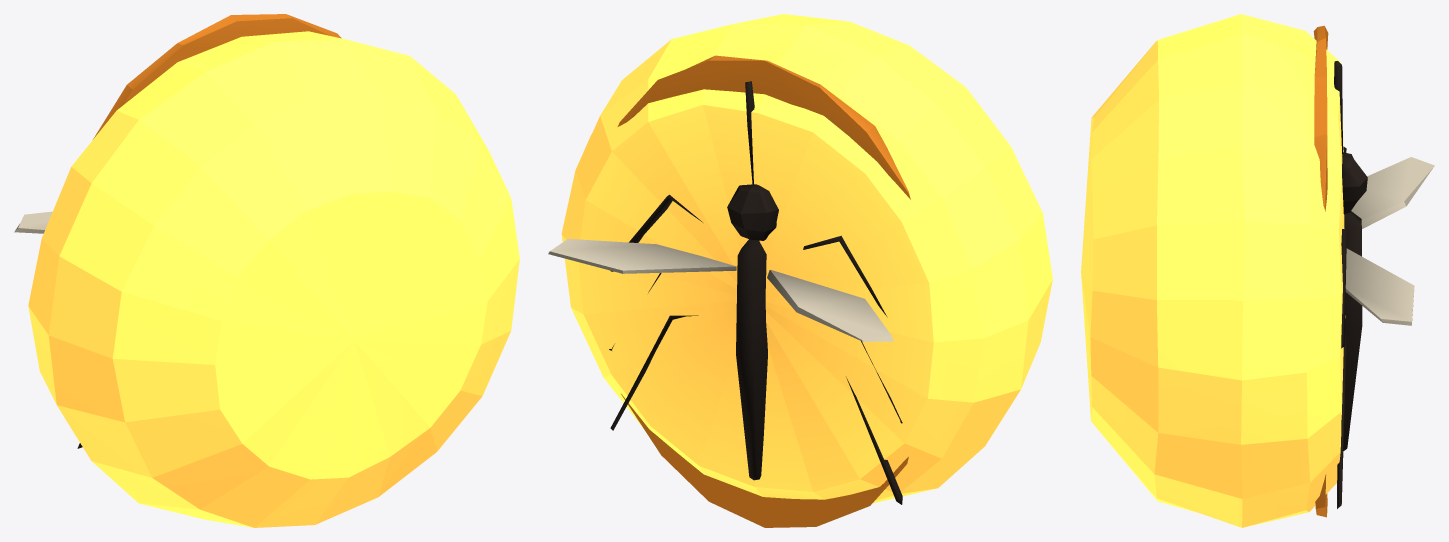
The model's file is find_mosquito.glb.
The picture shows the model from 3 angles, left to right: view 1: azimuth 30°, elevation 25°; view 2: azimuth 150°, elevation 25°; view 3: azimuth 270°, elevation 25°; orthographic projection.
Visible parts, largest first — view 1: Mosquito; view 2: Mosquito; view 3: Mosquito.
Part boxes in pixels (x1,y1,x2,y2): Mosquito: [14, 14, 519, 527]; Mosquito: [548, 14, 1052, 527]; Mosquito: [1081, 14, 1434, 527].
Size of the model in its own units: 0.3 by 0.3026 by 0.2049.
